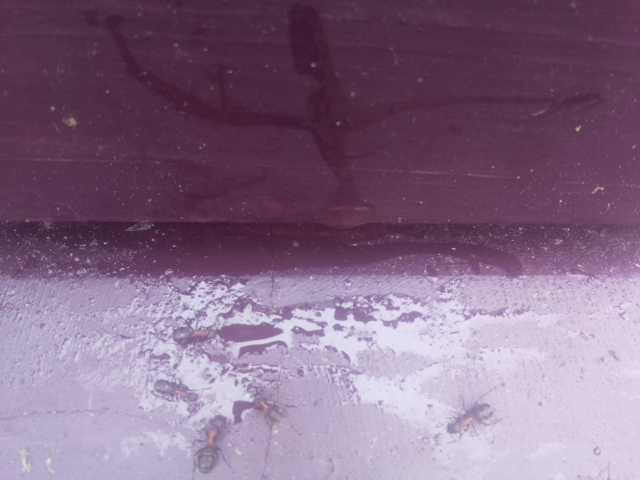ant: (186, 411, 234, 478), (440, 399, 500, 437), (237, 392, 290, 429), (145, 377, 204, 406), (174, 318, 217, 353)
